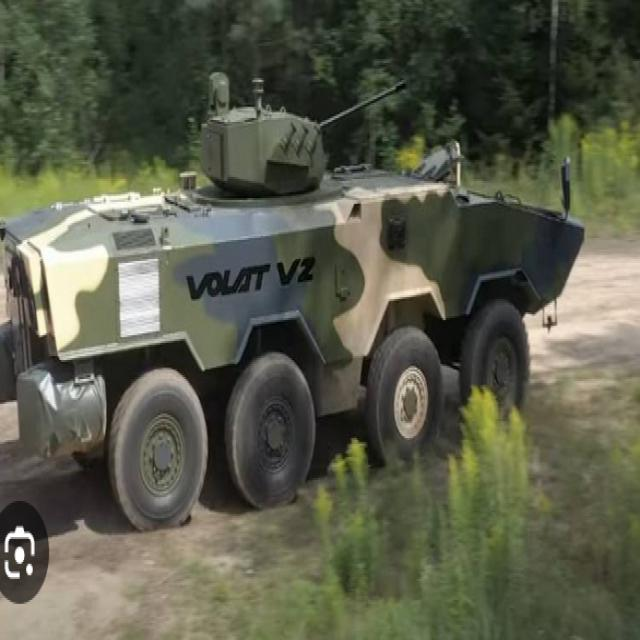MIL_APC: (14, 90, 582, 530)
